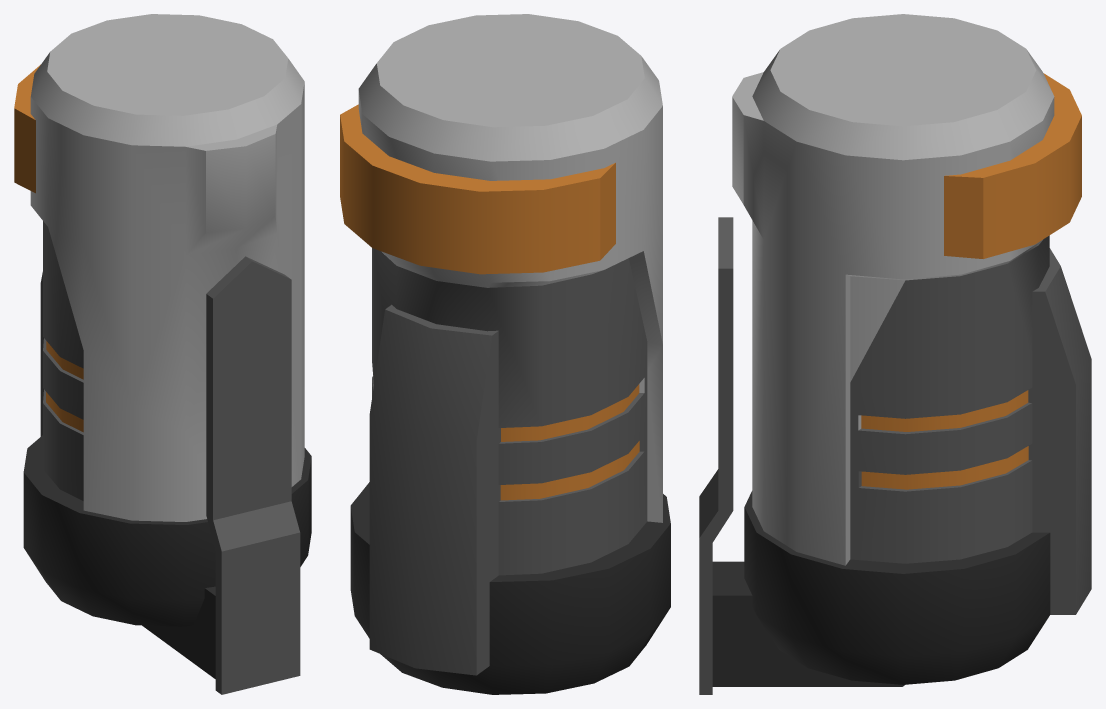
The model's file is qg-grenade-1-lod1.glb.
3 views of the same model, side by side, from view 1: azimuth 30°, elevation 25°; view 2: azimuth 150°, elevation 25°; view 3: azimuth 270°, elevation 25° (orthographic). The views are drawn at different scales.
Parts seen in each view (by area): view 1: WeaponMesh_qg-grenade-1_Grenade; view 2: WeaponMesh_qg-grenade-1_Grenade; view 3: WeaponMesh_qg-grenade-1_Grenade.
Boxes of the visible parts, x1=… form: WeaponMesh_qg-grenade-1_Grenade: x1=14, y1=14, x2=311, y2=694; WeaponMesh_qg-grenade-1_Grenade: x1=340, y1=14, x2=670, y2=694; WeaponMesh_qg-grenade-1_Grenade: x1=699, y1=14, x2=1091, y2=694.
Bounding box in the file's own units: 0.2003 × 0.42 × 0.2472.
